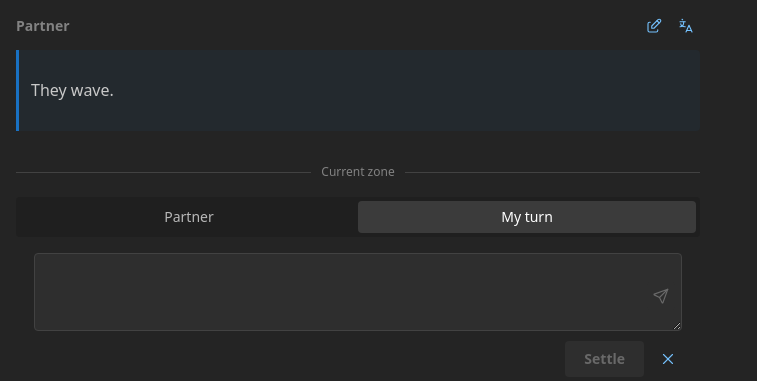
Test: SessionStream owns one translation state per mount (D13) › pressing it from the mounted stream POSTs that row's translation path, which shows once answered — DoD-8
Click the button named "Show translation" at (686, 26), box [672,12,700,40]
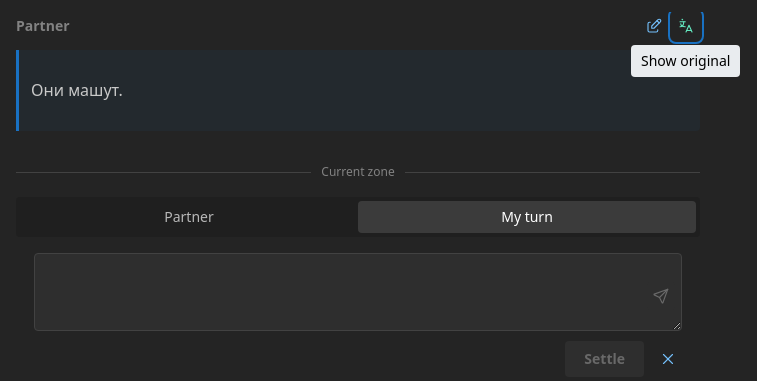
Expected: the number of buttons named "Show original" is 1, [672,12,700,40]
Now the text "They wave." is gone
